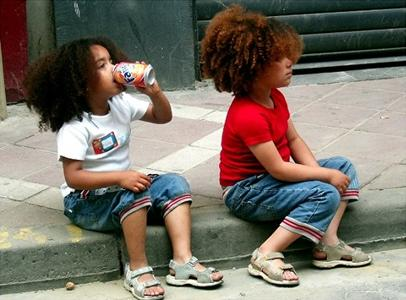person: (30, 36, 224, 300)
